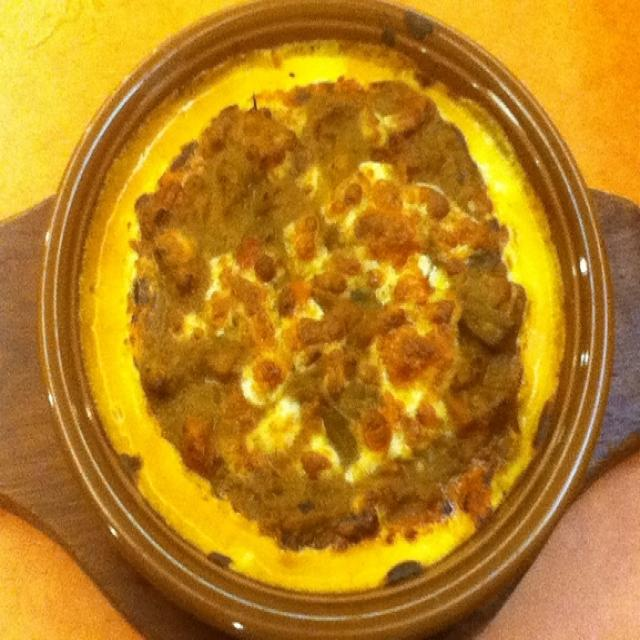米饭主食: (60, 28, 588, 602)
